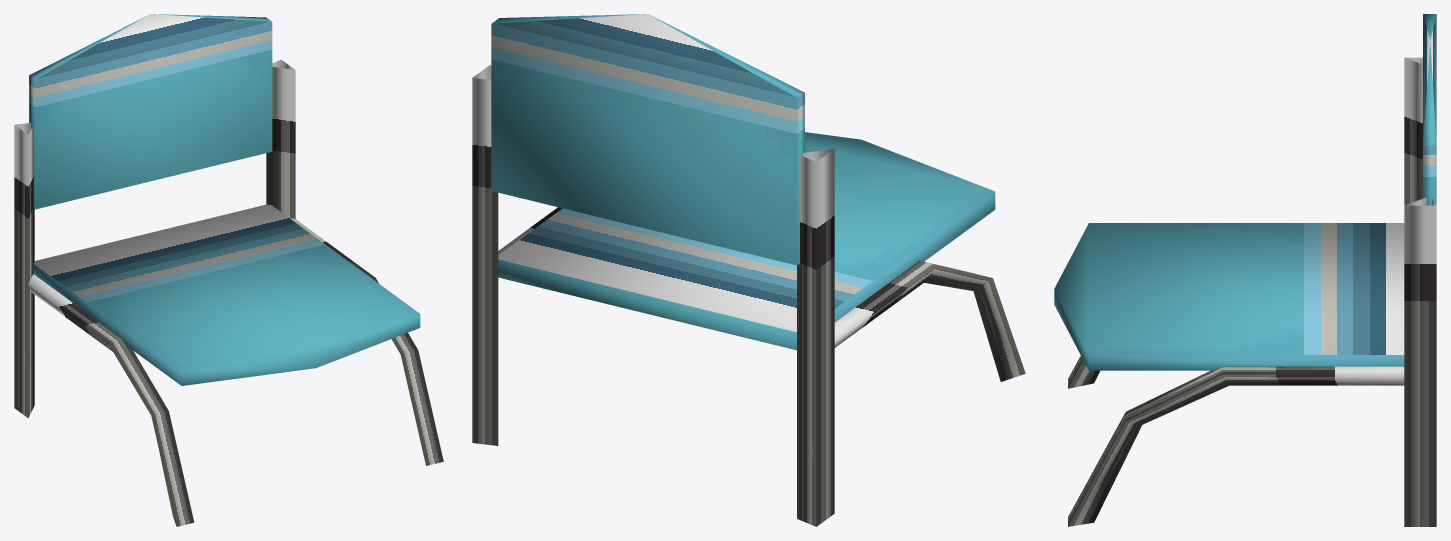
The picture shows the model from 3 angles, left to right: view 1: azimuth 30°, elevation 25°; view 2: azimuth 150°, elevation 25°; view 3: azimuth 270°, elevation 25°; orthographic projection. The views are drawn at different scales.
Visible parts, largest first — view 1: 3459IMSL01_10; view 2: 3459IMSL01_10; view 3: 3459IMSL01_10.
Part boxes in pixels (x1=…): 3459IMSL01_10: x1=14, y1=14, x2=443, y2=526; 3459IMSL01_10: x1=472, y1=14, x2=1025, y2=526; 3459IMSL01_10: x1=1054, y1=14, x2=1436, y2=526.
Size of the model in its own units: 0.8501 by 1.11 by 0.9287.
Materials: 1 (1 with a texture image).
